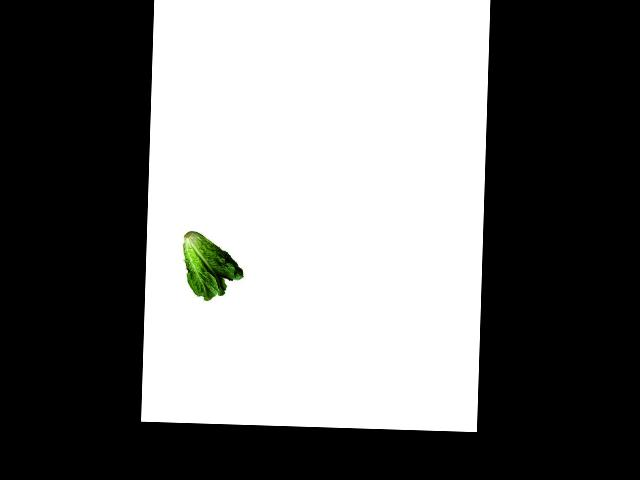lettuce: (177, 233, 248, 301)
